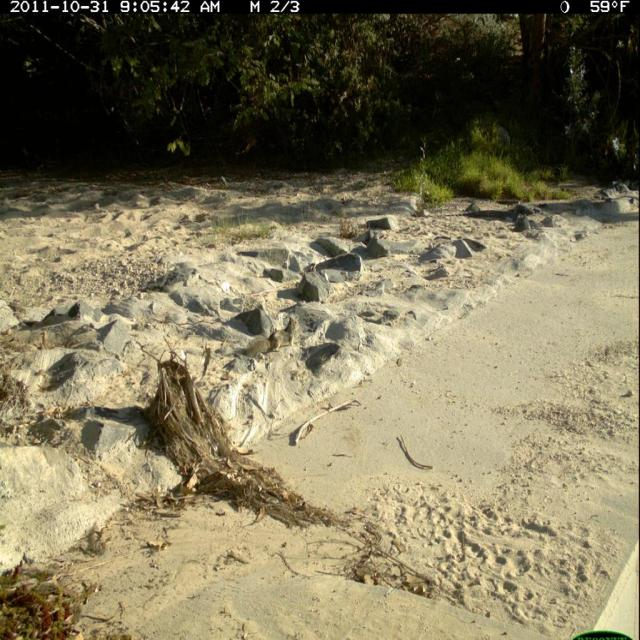squirrel: (244, 312, 302, 370)
